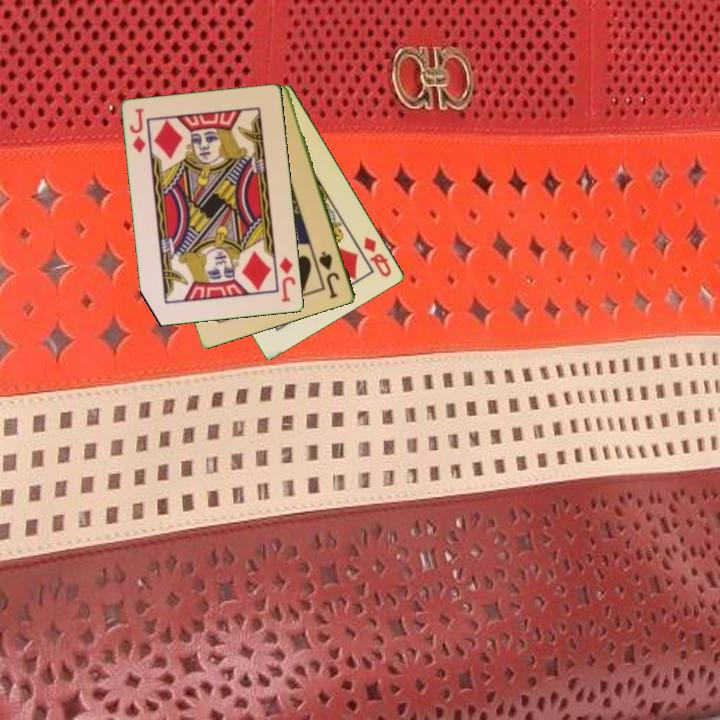Jd: (276, 254, 299, 305), (127, 105, 149, 156)
Js: (316, 248, 343, 301)
Qd: (360, 233, 395, 280)
